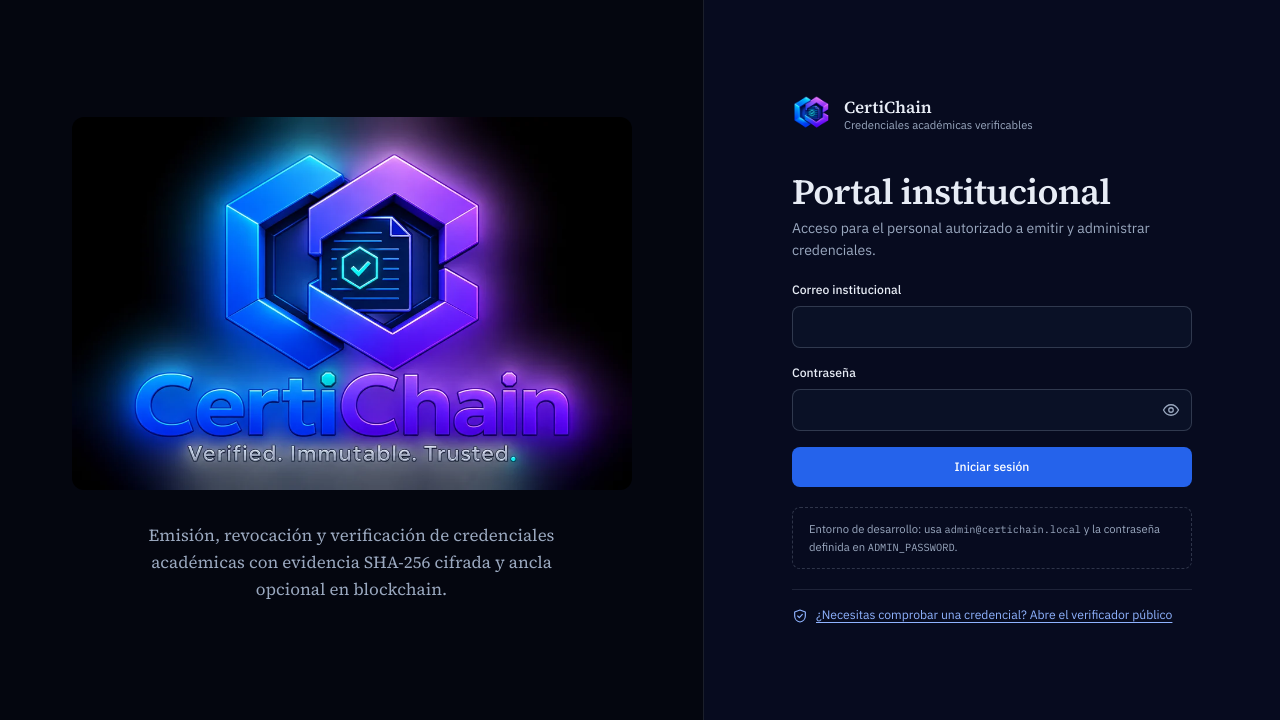
login and session › toggles password visibility accessibly
Click the button named "Mostrar contraseña" at (1171, 410), box top-left (1153, 392), bottom-right (1189, 428)
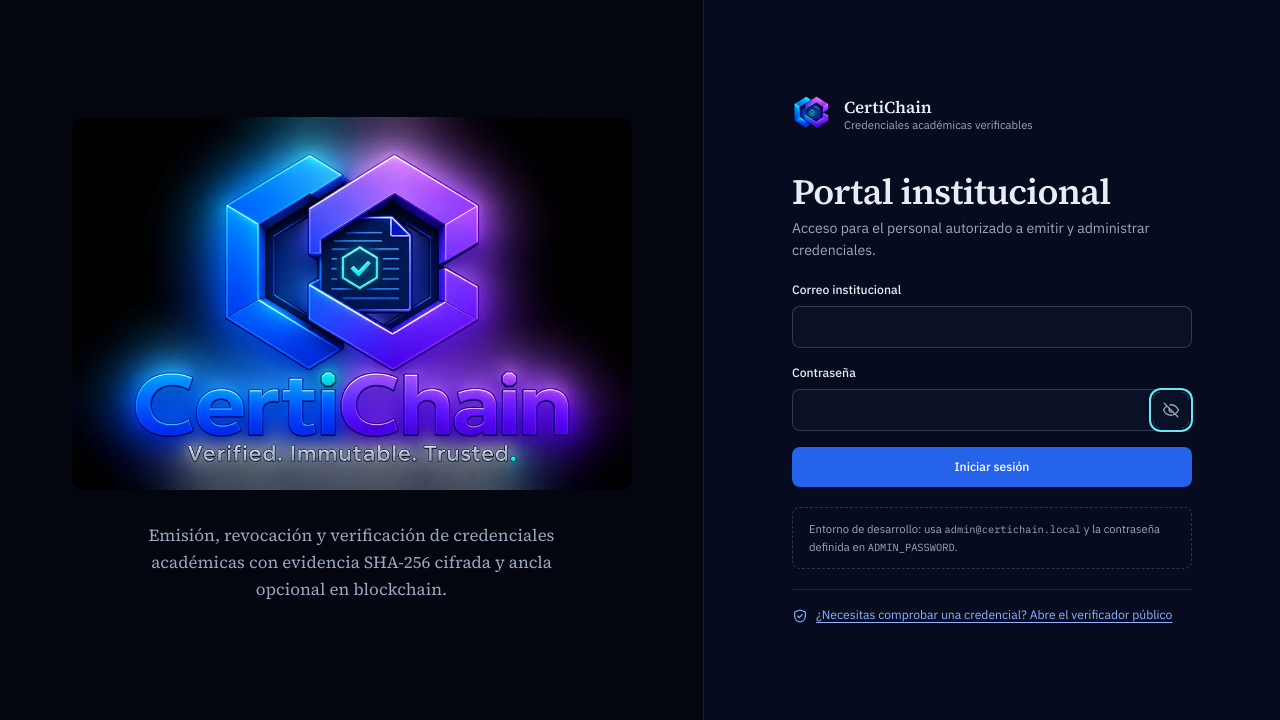
Result: the button named "Ocultar contraseña" is pressed at top-left (1153, 392), bottom-right (1189, 428)
